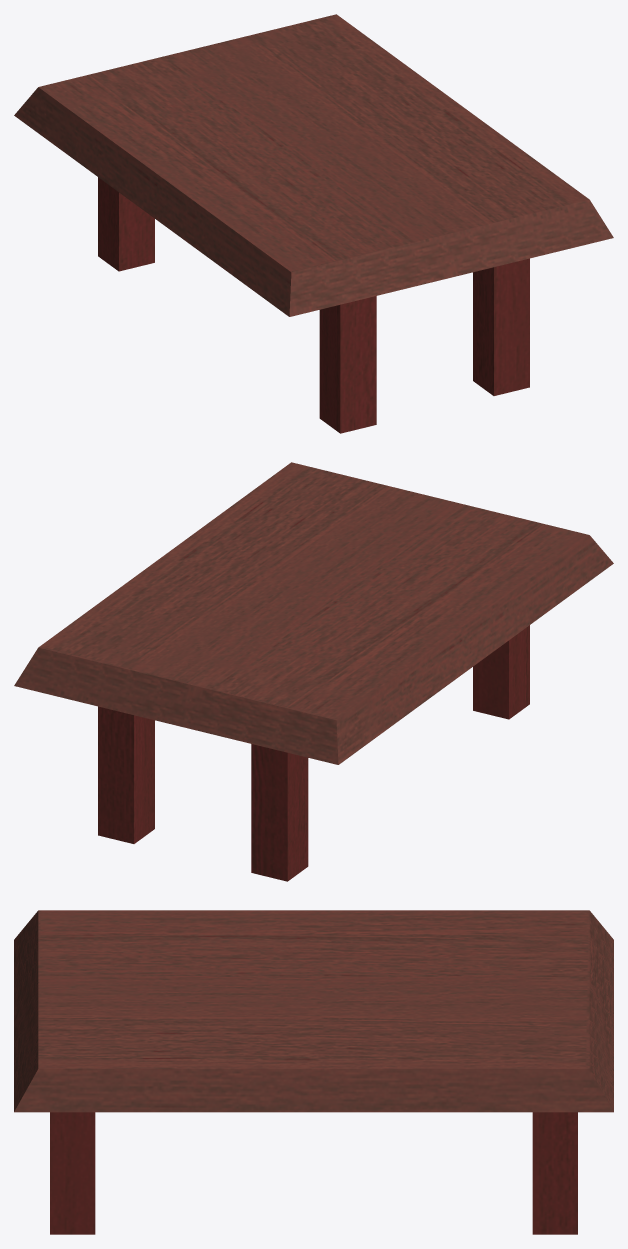
The model's file is fbx_table.fbx.
3 views of the same model, one above another, from view 1: azimuth 30°, elevation 25°; view 2: azimuth 150°, elevation 25°; view 3: azimuth 270°, elevation 25° (orthographic). The views are drawn at different scales.
Visible parts, largest first — view 1: table; view 2: table; view 3: table.
Boxes of the visible parts, <box> form: table: <box>14,14,613,433</box>; table: <box>14,462,613,881</box>; table: <box>14,910,613,1234</box>.
Size of the model in its own units: 1.69 by 0.8895 by 2.49.
